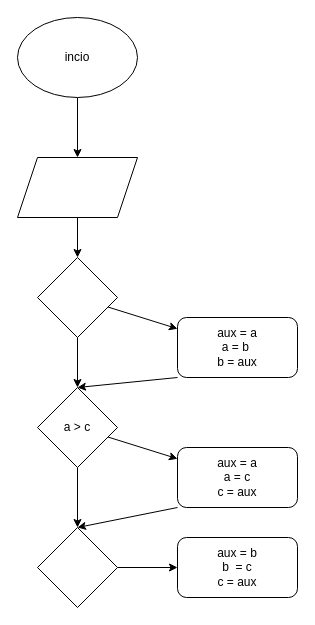
Image size: 315x625. Some labels were removed from this diagram. Each missing label, with the box of its shape:
a > b: (36, 256, 118, 338)
a,b,c: (16, 156, 138, 218)
b > c: (36, 526, 118, 608)
